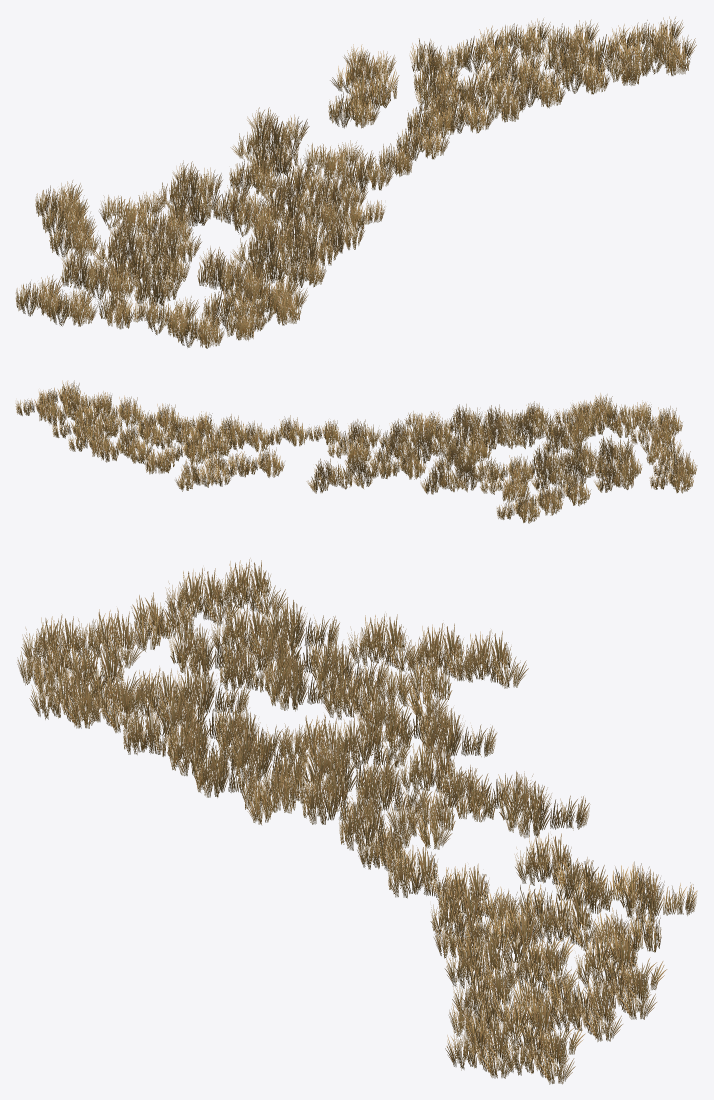
File: caodi_04.fbx
The picture shows the model from 3 angles, top to bottom: view 1: azimuth 30°, elevation 25°; view 2: azimuth 150°, elevation 25°; view 3: azimuth 270°, elevation 25°; orthographic projection. The views are drawn at different scales.
Visible parts, largest first — view 1: caodi_04; view 2: caodi_04; view 3: caodi_04.
Part boxes in pixels (x1,y1,x2,y2): caodi_04: (15, 16, 696, 348); caodi_04: (15, 380, 697, 523); caodi_04: (17, 558, 697, 1084).
Bounding box in the file's own units: 6663 × 247 × 3839.
1 material, 1 textured.
